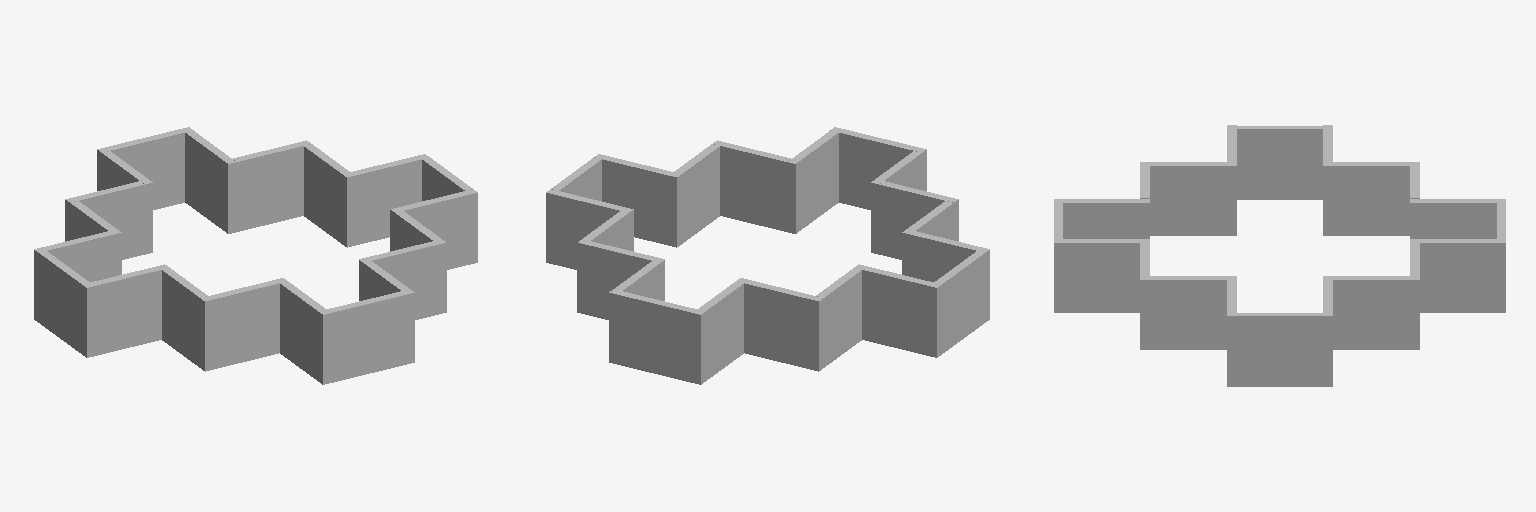
File: finalwalls.obj
3 renders of one model, left to right at view 1: azimuth 30°, elevation 25°; view 2: azimuth 150°, elevation 25°; view 3: azimuth 270°, elevation 25°, orthographic.
Visible parts, largest first — view 1: Cube.020, Cube.024, Cube.022, Cube.010, Cube.011, Cube.001, Cube.007, Cube.018, Cube.013, Cube.016, Cube.005, Cube.002 (+9 smaller); view 2: Cube.007, Cube.004, Cube.005, Cube.018, Cube.013, Cube.019, Cube.012, Cube.020, Cube.010, Cube.011, Cube.016, Cube.022 (+8 smaller); view 3: Cube.006, Cube.023, Cube.017, Cube.016, Cube.001, Cube.012, Cube.019, Cube.002, Cube.003, Cube.021, Cube.010, Cube.011 (+5 smaller).
Boxes of the visible parts, x1=… form: Cube.020: x1=318, y1=289, x2=414, y2=384; Cube.024: x1=82, y1=266, x2=161, y2=357; Cube.022: x1=200, y1=280, x2=279, y2=371; Cube.010: x1=233, y1=140, x2=310, y2=231; Cube.011: x1=351, y1=154, x2=429, y2=245; Cube.001: x1=304, y1=144, x2=354, y2=247; Cube.007: x1=97, y1=127, x2=193, y2=209; Cube.018: x1=367, y1=239, x2=446, y2=319; Cube.013: x1=399, y1=189, x2=477, y2=269; Cube.016: x1=39, y1=251, x2=89, y2=353; Cube.005: x1=65, y1=181, x2=144, y2=259; Cube.002: x1=185, y1=131, x2=236, y2=233; Cube.007: x1=609, y1=289, x2=705, y2=384; Cube.004: x1=862, y1=266, x2=941, y2=357; Cube.005: x1=744, y1=280, x2=823, y2=371; Cube.018: x1=713, y1=140, x2=790, y2=231; Cube.013: x1=594, y1=154, x2=672, y2=245; Cube.019: x1=787, y1=131, x2=838, y2=233; Cube.012: x1=669, y1=144, x2=719, y2=247; Cube.020: x1=830, y1=127, x2=926, y2=209; Cube.010: x1=577, y1=239, x2=656, y2=319; Cube.011: x1=546, y1=189, x2=624, y2=269; Cube.016: x1=934, y1=251, x2=984, y2=353; Cube.022: x1=879, y1=181, x2=958, y2=259; Cube.006: x1=1323, y1=162, x2=1409, y2=235; Cube.023: x1=1150, y1=162, x2=1236, y2=235; Cube.017: x1=1237, y1=313, x2=1322, y2=386; Cube.016: x1=1237, y1=126, x2=1322, y2=199; Cube.001: x1=1323, y1=276, x2=1409, y2=349; Cube.012: x1=1150, y1=276, x2=1236, y2=349; Cube.019: x1=1063, y1=239, x2=1149, y2=312; Cube.002: x1=1410, y1=239, x2=1496, y2=312; Cube.003: x1=1410, y1=199, x2=1496, y2=238; Cube.021: x1=1063, y1=199, x2=1149, y2=238; Cube.010: x1=1410, y1=243, x2=1419, y2=349; Cube.011: x1=1323, y1=280, x2=1332, y2=386.
Size of the model in its own units: 1564 by 268 by 1566.